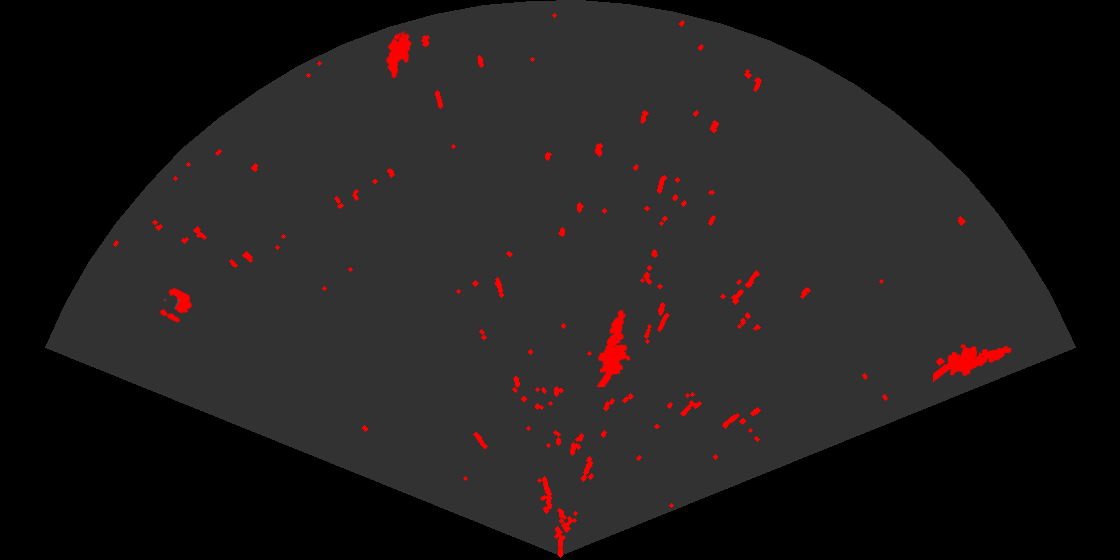AUV: (385, 31, 413, 80)
ball: (158, 286, 194, 324)
frogman: (933, 343, 1013, 384), (595, 308, 632, 387)
